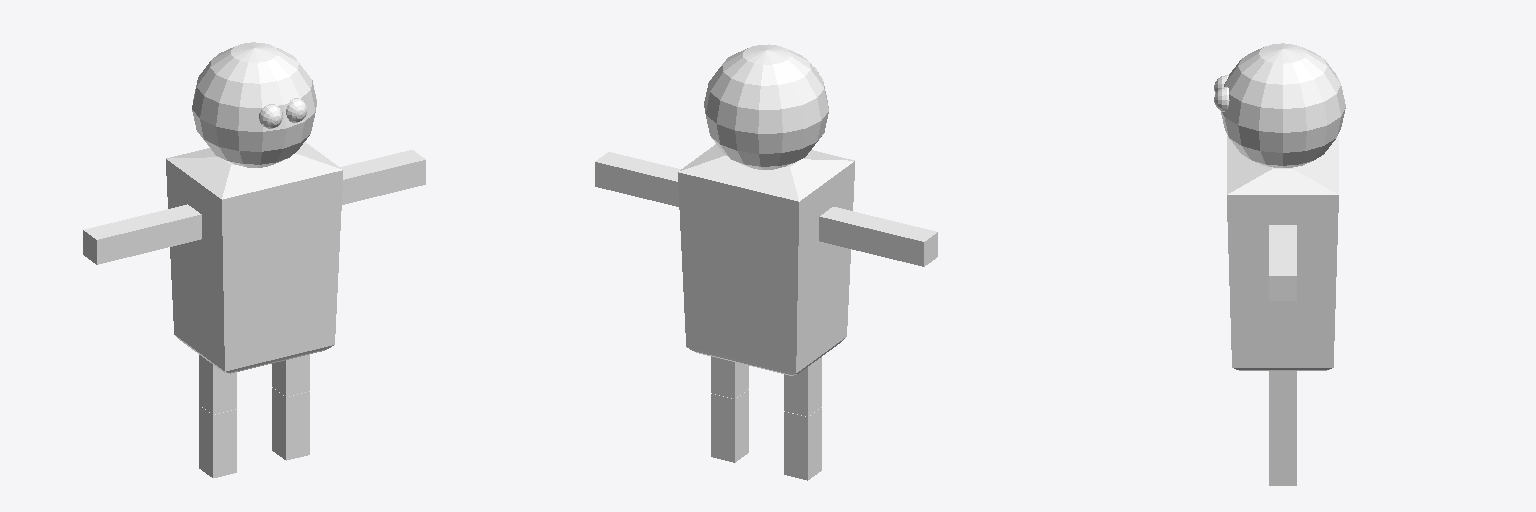
Rendered from Man.obj.
3 views of the same model, side by side, from view 1: azimuth 30°, elevation 25°; view 2: azimuth 150°, elevation 25°; view 3: azimuth 270°, elevation 25° (orthographic).
Parts seen in each view (by area): view 1: RightArm_sep44, RightArm_sep41, RightArm_sep45, RightArm_sep38, RightArm, RightArm_sep37, RightArm_sep40, RightArm_sep39; view 2: RightArm_sep44, RightArm_sep41, RightArm_sep45, RightArm_sep38, RightArm_sep37, RightArm, RightArm_sep40, RightArm_sep39; view 3: RightArm_sep44, RightArm_sep41, RightArm_sep38, RightArm_sep37, RightArm_sep39.
Part boxes in pixels (left/top/right/bottom): RightArm_sep44: left=166, top=142, right=342, bottom=373; RightArm_sep41: left=192, top=42, right=316, bottom=167; RightArm_sep45: left=83, top=204, right=201, bottom=264; RightArm_sep38: left=340, top=150, right=425, bottom=204; RightArm: left=199, top=405, right=236, bottom=477; RightArm_sep37: left=272, top=387, right=309, bottom=460; RightArm_sep40: left=199, top=355, right=236, bottom=414; RightArm_sep39: left=272, top=354, right=309, bottom=396; RightArm_sep44: left=678, top=144, right=854, bottom=375; RightArm_sep41: left=704, top=44, right=828, bottom=169; RightArm_sep45: left=819, top=207, right=937, bottom=266; RightArm_sep38: left=595, top=152, right=680, bottom=206; RightArm_sep37: left=711, top=389, right=748, bottom=462; RightArm: left=784, top=407, right=821, bottom=480; RightArm_sep40: left=784, top=357, right=821, bottom=416; RightArm_sep39: left=711, top=356, right=748, bottom=398; RightArm_sep44: left=1227, top=136, right=1338, bottom=370; RightArm_sep41: left=1221, top=43, right=1345, bottom=167; RightArm_sep38: left=1269, top=225, right=1296, bottom=300; RightArm_sep37: left=1269, top=423, right=1296, bottom=485; RightArm_sep39: left=1269, top=371, right=1296, bottom=422.
Bounding box in the file's own units: 2.71 × 3.25 × 0.9407.